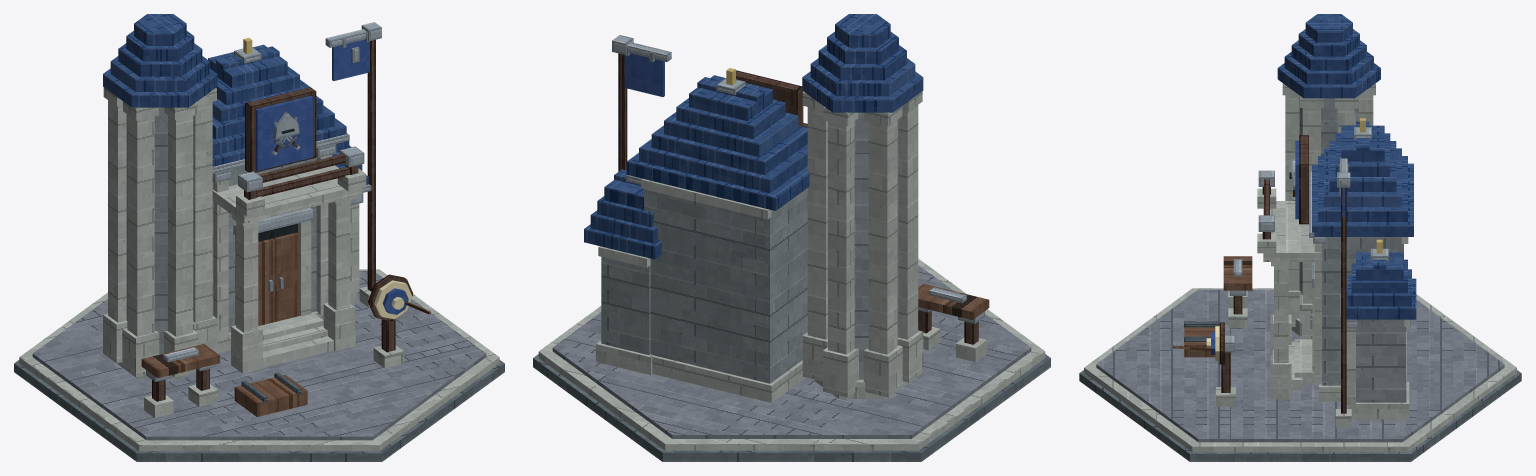
Rendered from rogue_mastery_hex_v1.glb.
The picture shows the model from 3 angles, left to right: view 1: azimuth 30°, elevation 25°; view 2: azimuth 150°, elevation 25°; view 3: azimuth 270°, elevation 25°; orthographic projection. The views are drawn at different scales.
Parts seen in each view (by area): view 1: Rogue_Mastery_Hex_V1_Hall, Rogue_Mastery_Hex_V1_Foundation, Rogue_Mastery_Hex_V1_Roofs, Rogue_Mastery_Hex_V1_Faction, Rogue_Mastery_Hex_V1_Courtyard, Rogue_Mastery_Hex_V1_Training, Rogue_Mastery_Hex_V1_Details, Rogue_Mastery_Hex_V1_Focus; view 2: Rogue_Mastery_Hex_V1_Hall, Rogue_Mastery_Hex_V1_Foundation, Rogue_Mastery_Hex_V1_Roofs, Rogue_Mastery_Hex_V1_Faction, Rogue_Mastery_Hex_V1_Training, Rogue_Mastery_Hex_V1_Details; view 3: Rogue_Mastery_Hex_V1_Foundation, Rogue_Mastery_Hex_V1_Roofs, Rogue_Mastery_Hex_V1_Hall, Rogue_Mastery_Hex_V1_Faction, Rogue_Mastery_Hex_V1_Training, Rogue_Mastery_Hex_V1_Courtyard, Rogue_Mastery_Hex_V1_Details, Rogue_Mastery_Hex_V1_Focus.
Boxes of the visible parts, x1,y1,x2,y2 form: Rogue_Mastery_Hex_V1_Hall: [103, 87, 356, 378]; Rogue_Mastery_Hex_V1_Foundation: [14, 269, 504, 461]; Rogue_Mastery_Hex_V1_Roofs: [103, 14, 371, 192]; Rogue_Mastery_Hex_V1_Faction: [245, 22, 381, 307]; Rogue_Mastery_Hex_V1_Courtyard: [234, 146, 366, 416]; Rogue_Mastery_Hex_V1_Training: [141, 274, 430, 417]; Rogue_Mastery_Hex_V1_Details: [212, 144, 363, 402]; Rogue_Mastery_Hex_V1_Focus: [212, 165, 362, 223]; Rogue_Mastery_Hex_V1_Hall: [596, 91, 923, 402]; Rogue_Mastery_Hex_V1_Foundation: [533, 258, 1050, 461]; Rogue_Mastery_Hex_V1_Roofs: [584, 14, 923, 259]; Rogue_Mastery_Hex_V1_Faction: [612, 35, 803, 171]; Rogue_Mastery_Hex_V1_Training: [918, 283, 989, 361]; Rogue_Mastery_Hex_V1_Details: [598, 178, 771, 267]; Rogue_Mastery_Hex_V1_Foundation: [1079, 288, 1521, 461]; Rogue_Mastery_Hex_V1_Roofs: [1277, 14, 1416, 320]; Rogue_Mastery_Hex_V1_Hall: [1270, 83, 1409, 419]; Rogue_Mastery_Hex_V1_Faction: [1289, 135, 1351, 427]; Rogue_Mastery_Hex_V1_Training: [1173, 256, 1252, 406]; Rogue_Mastery_Hex_V1_Courtyard: [1184, 170, 1313, 395]; Rogue_Mastery_Hex_V1_Details: [1184, 237, 1410, 404]; Rogue_Mastery_Hex_V1_Focus: [1263, 201, 1320, 261].
Bounding box in the file's own units: 1.59 × 1.48 × 1.84.
Materials: 1 (1 with a texture image).
